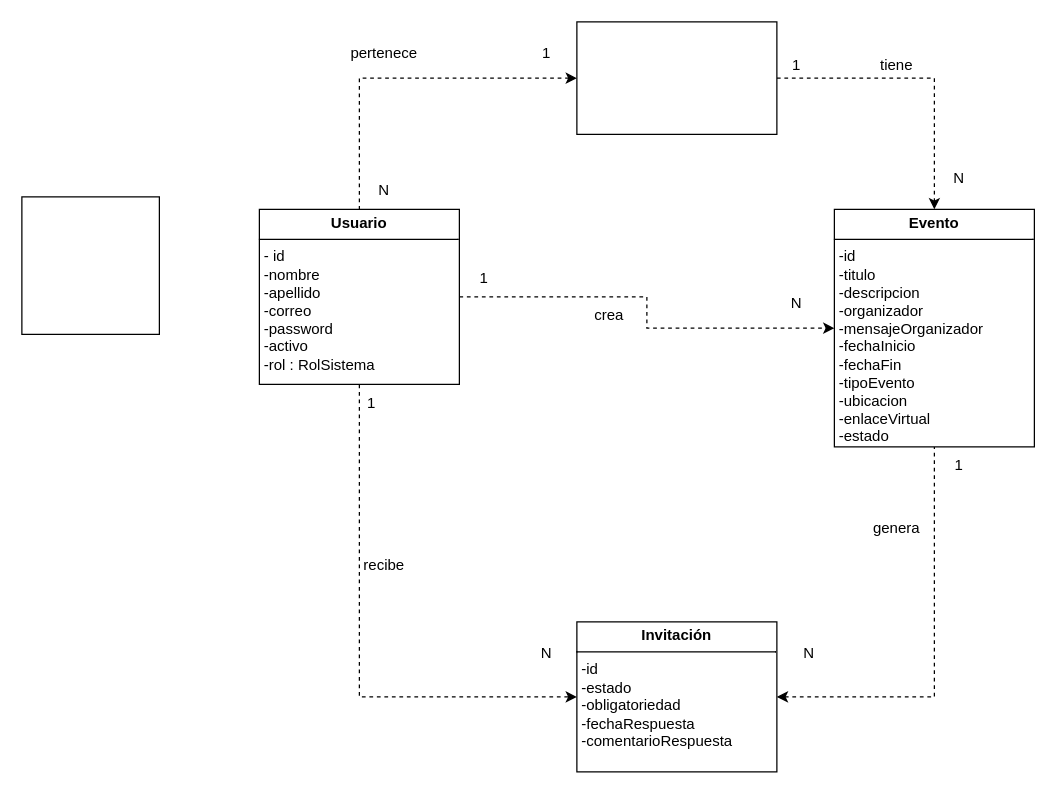
Some shapes in this 1056 by 794 pixel diagram are drawn without their labels. The centre of each missing label's shape, as x and y in pixels:
"Equipo -id -nombre -descripcion -coordinador : Usuario" belongs at point 676,77.
"«enumeration» RolSistema Admin User" belongs at point 90,265.
